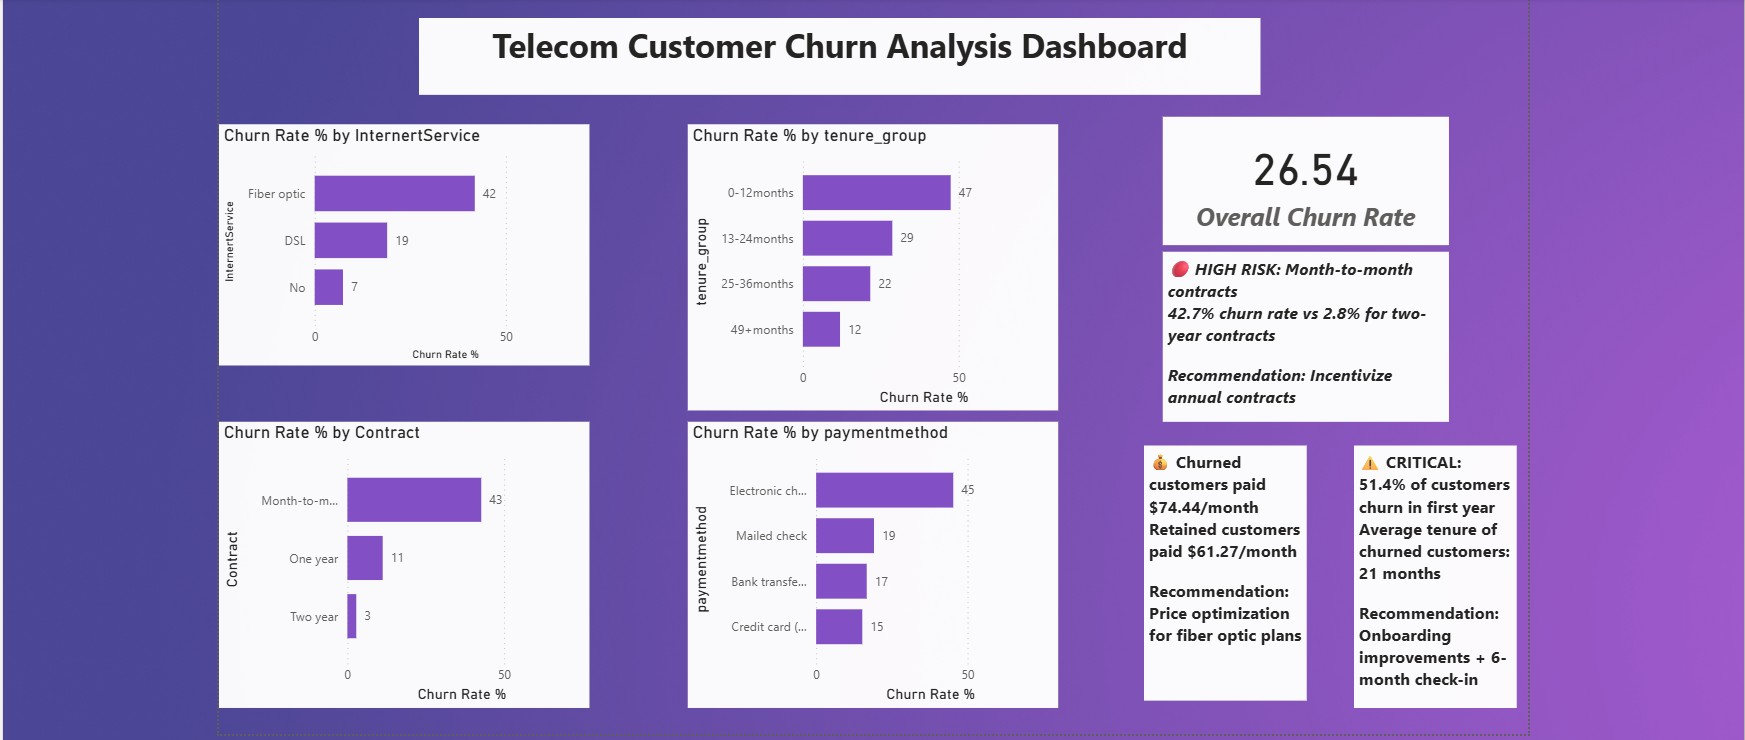

What the dashboard file says about the page in this screenshot:
{"tool":"powerbi","page":{"name":"Page 1","canvas":[1280,720],"ordinal":0},"visuals":[{"type":"card","fields":{"Values":["public telco_customers.Churn Rate %"]},"box":[923.2,116.2,280,126],"z":0},{"type":"clusteredBarChart","fields":{"Y":["public telco_customers.Churn Rate %"],"Category":["public telco_customers.contract"]},"box":[0,414.4,362.3,279.9],"z":1000},{"type":"clusteredBarChart","fields":{"Y":["public telco_customers.Churn Rate %"],"Category":["public telco_customers.internertservice"]},"box":[0,123.5,362.3,236],"z":2000},{"type":"clusteredBarChart","fields":{"Y":["public telco_customers.Churn Rate %"],"Category":["public telco_customers.tenure_group"]},"box":[458.3,123.5,362.3,279.9],"z":3000},{"type":"clusteredBarChart","fields":{"Y":["public telco_customers.Churn Rate %"],"Category":["public telco_customers.paymentmethod"]},"box":[458.3,414.4,362.3,279.9],"z":4000},{"type":"textbox","box":[923.5,248.4,279.9,166],"z":5000},{"type":"textbox","box":[1110.1,437.7,159.2,256.6],"z":5001},{"type":"textbox","box":[904.3,437.7,159.2,249.7],"z":5002},{"type":"textbox","box":[196.2,19.2,823.3,75.5],"z":5003}]}

Visuals, with their boxes in screenshot pixels (x1, y1, x2, y2):
card - public telco_customers.Churn Rate %: {"x1": 1159, "y1": 113, "x2": 1443, "y2": 241}
clusteredBarChart - public telco_customers.Churn Rate % x public telco_customers.contract: {"x1": 223, "y1": 416, "x2": 590, "y2": 700}
clusteredBarChart - public telco_customers.Churn Rate % x public telco_customers.internertservice: {"x1": 223, "y1": 121, "x2": 590, "y2": 360}
clusteredBarChart - public telco_customers.Churn Rate % x public telco_customers.tenure_group: {"x1": 688, "y1": 121, "x2": 1055, "y2": 405}
clusteredBarChart - public telco_customers.Churn Rate % x public telco_customers.paymentmethod: {"x1": 688, "y1": 416, "x2": 1055, "y2": 700}
textbox: {"x1": 1160, "y1": 247, "x2": 1444, "y2": 416}
textbox: {"x1": 1349, "y1": 440, "x2": 1510, "y2": 700}
textbox: {"x1": 1140, "y1": 440, "x2": 1302, "y2": 693}
textbox: {"x1": 422, "y1": 15, "x2": 1257, "y2": 92}
